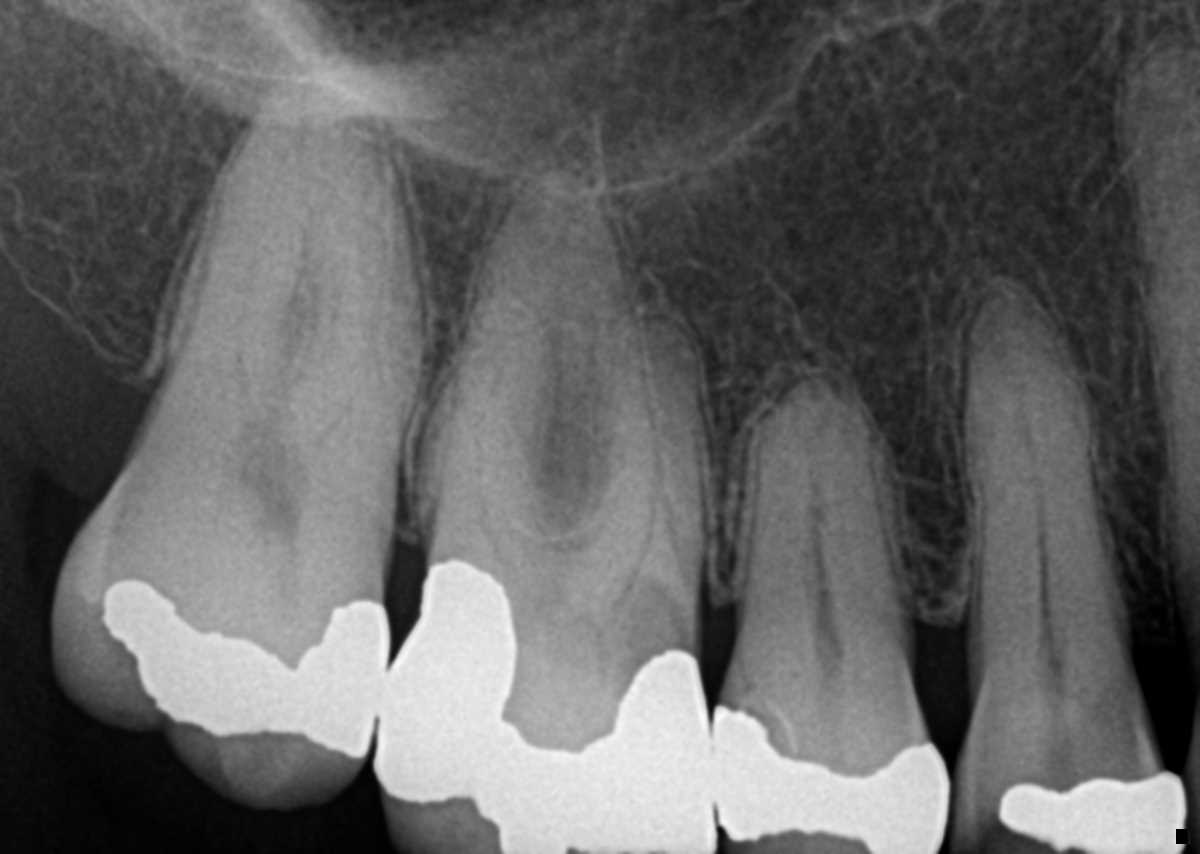Distal Root: (165, 121, 306, 413), (407, 287, 551, 570)
Main Canal: (993, 326, 1055, 623), (803, 462, 847, 659)
Main Root: (727, 375, 908, 681), (963, 293, 1125, 627), (1123, 38, 1200, 599)
Mesial Root: (289, 129, 426, 486), (573, 311, 711, 642)
Palatal Root: (152, 16, 407, 440), (433, 165, 655, 538)
decay: (614, 577, 699, 682), (1080, 678, 1158, 777)
